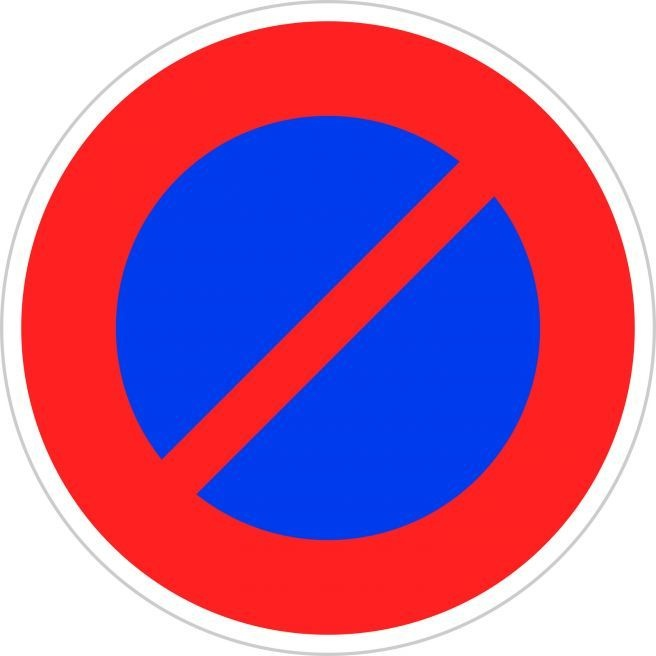Prohibition_sign: (10, 7, 651, 652)
